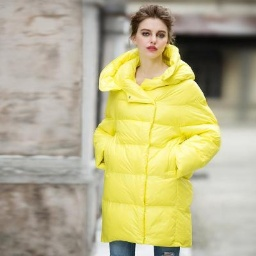face: (129, 4, 173, 60)
